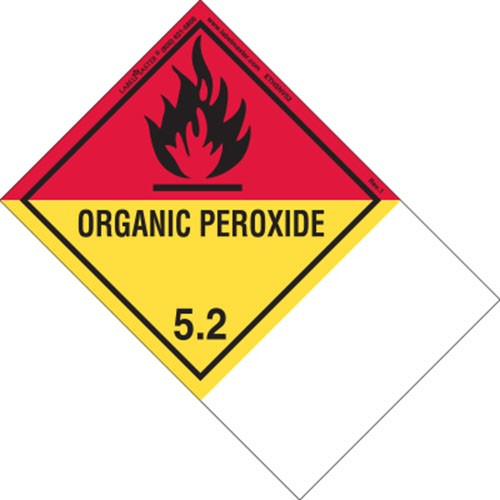OrganicPeroxide: (3, 2, 398, 400)
